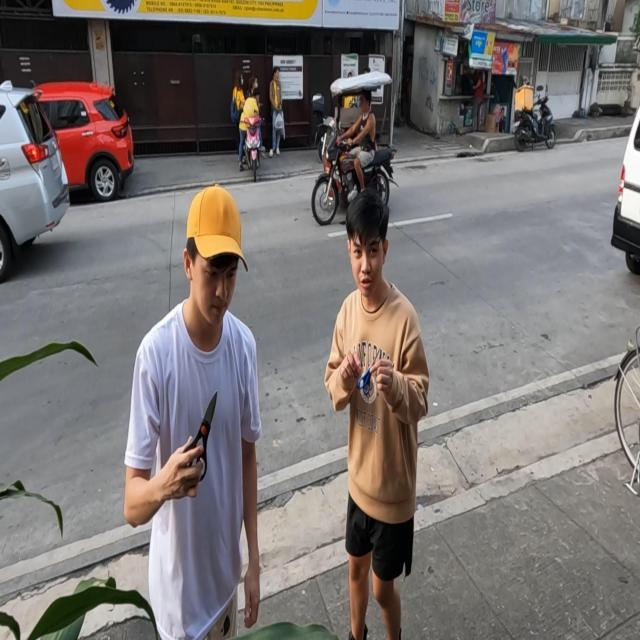scissor: (183, 390, 218, 482), (359, 352, 380, 394)
